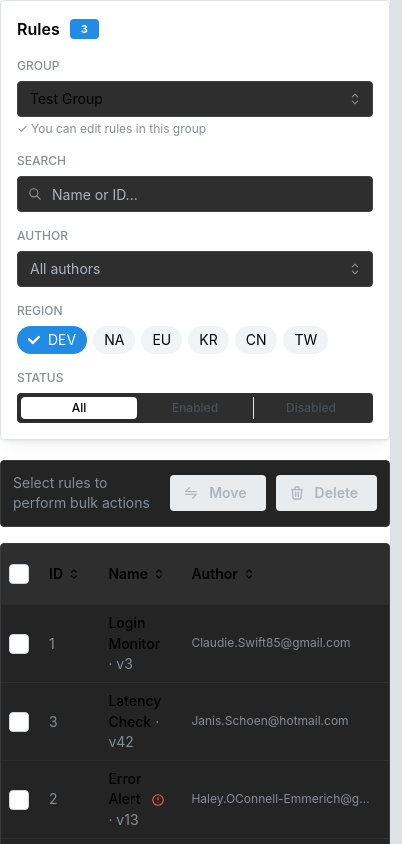
RulesListPage › Rule Selection › shows selection count in toolbar
The width and height of the screenshot is (402, 844).
What coordinates should you click on to do the following:
click the checkbox below "Login Monitor"
I would click on:
 (19, 644)
Its box is 9,634 -> 29,654.
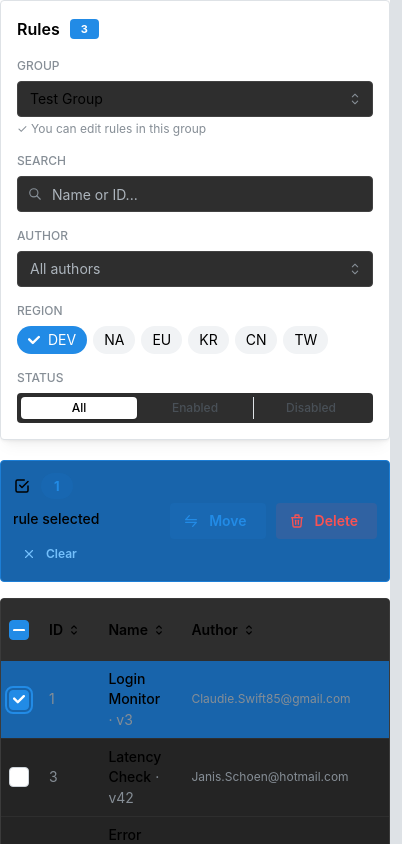
What coordinates should you click on to do the following:
click the checkbox below "Latency Check"
I would click on:
 (19, 777)
Its box is 9,767 -> 29,787.
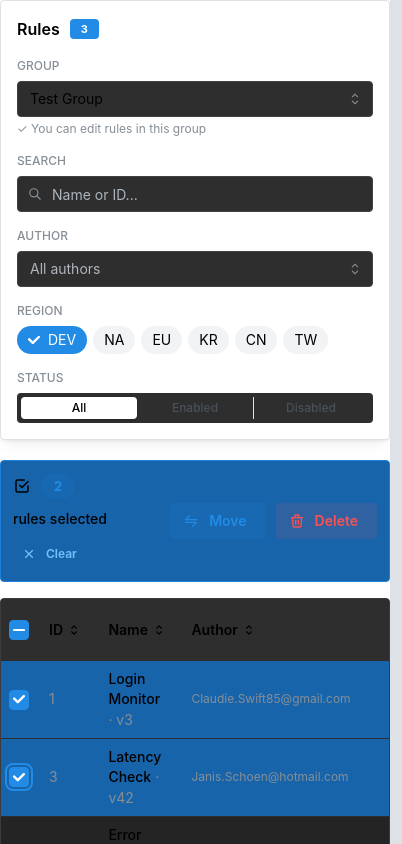
Expected: the text "2" is shown, 54,474 -> 62,498
Expected: the text "rules selected" is shown, 13,509 -> 107,530
